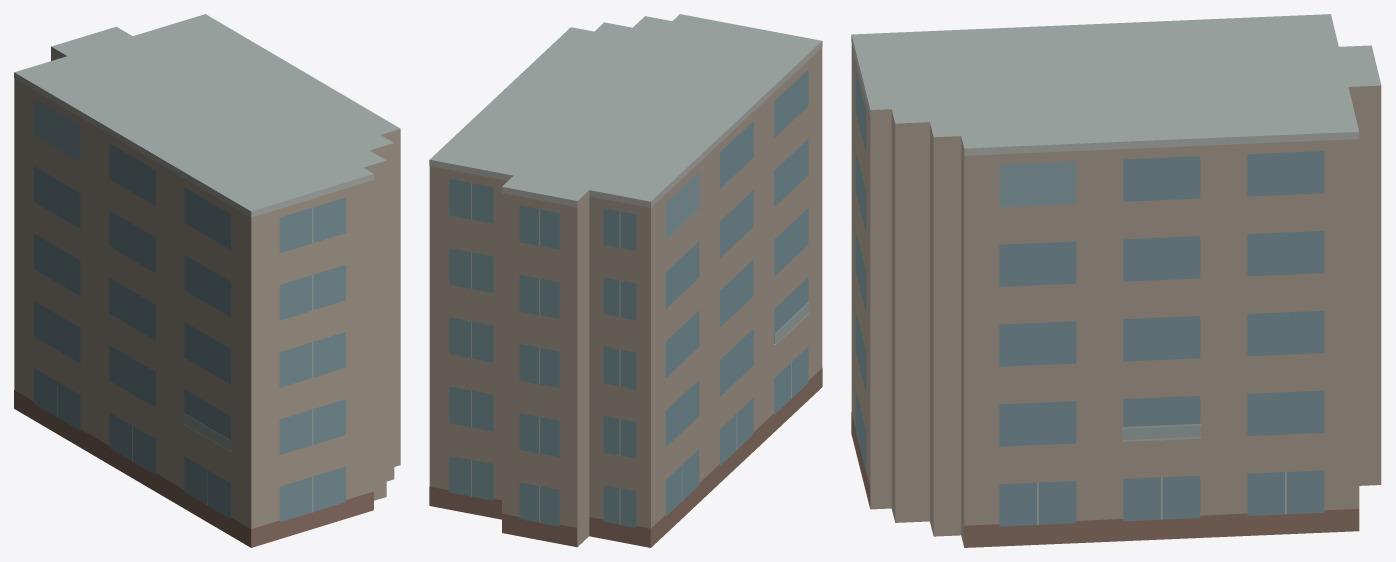
Rendered from survey-upis-32626108.glb.
The picture shows the model from 3 angles, left to right: view 1: azimuth 30°, elevation 25°; view 2: azimuth 150°, elevation 25°; view 3: azimuth 270°, elevation 25°; orthographic projection. The views are drawn at different scales.
Visible parts, largest first — view 1: survey-upis-32626108.tmp; view 2: survey-upis-32626108.tmp; view 3: survey-upis-32626108.tmp.
Part boxes in pixels (<box>): survey-upis-32626108.tmp: <box>14,14,400,547</box>; survey-upis-32626108.tmp: <box>429,14,822,547</box>; survey-upis-32626108.tmp: <box>851,14,1381,547</box>.
Size of the model in its own units: 9.65 by 13.35 by 16.07.
